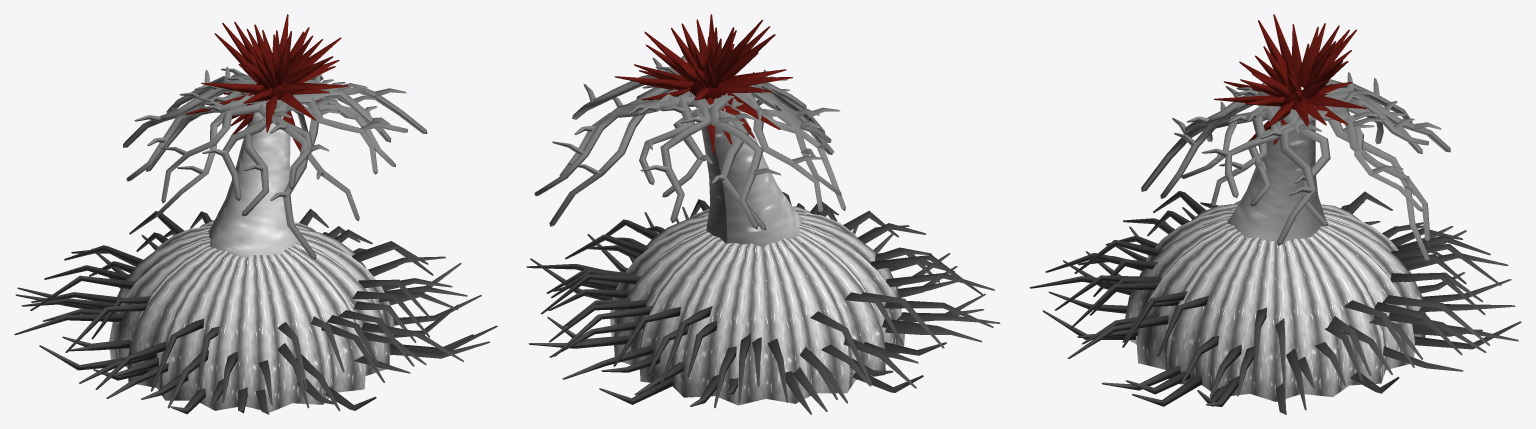
The model's file is TarTree07.glb.
3 views of the same model, side by side, from view 1: azimuth 30°, elevation 25°; view 2: azimuth 150°, elevation 25°; view 3: azimuth 270°, elevation 25° (orthographic). The views are drawn at different scales.
Parts seen in each view (by area): view 1: TarTree07_dome; view 2: TarTree07_dome; view 3: TarTree07_dome.
Part boxes in pixels (x1=…): TarTree07_dome: x1=14, y1=14, x2=497, y2=414; TarTree07_dome: x1=526, y1=14, x2=1000, y2=414; TarTree07_dome: x1=1029, y1=14, x2=1521, y2=414.
Bounding box in the file's own units: 6.36 × 4.59 × 6.3.
4 materials, 1 textured.
